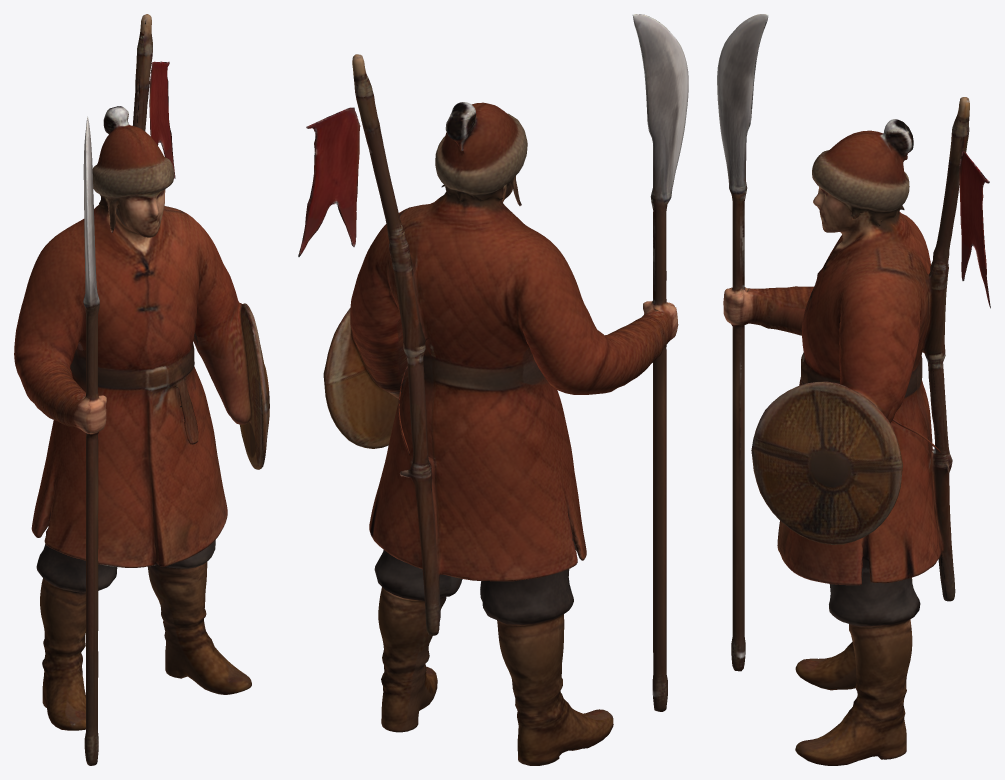
Rendered from look-armor-t0-rodin.glb.
3 renders of one model, left to right at view 1: azimuth 30°, elevation 25°; view 2: azimuth 150°, elevation 25°; view 3: azimuth 270°, elevation 25°, orthographic. The views are drawn at different scales.
Visible parts, largest first — view 1: model; view 2: model; view 3: model.
Part boxes in pixels (x1,y1,x2,y2): model: (14,14,269,765); model: (298,14,688,765); model: (717,14,990,765).
Bounding box in the file's own units: 0.7682 × 1.9 × 0.7128.
Materials: 1 (1 with a texture image).
